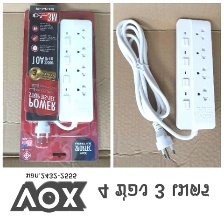book: (16, 2, 102, 164)
three_eye_plug: (170, 14, 217, 132), (53, 15, 95, 125)
